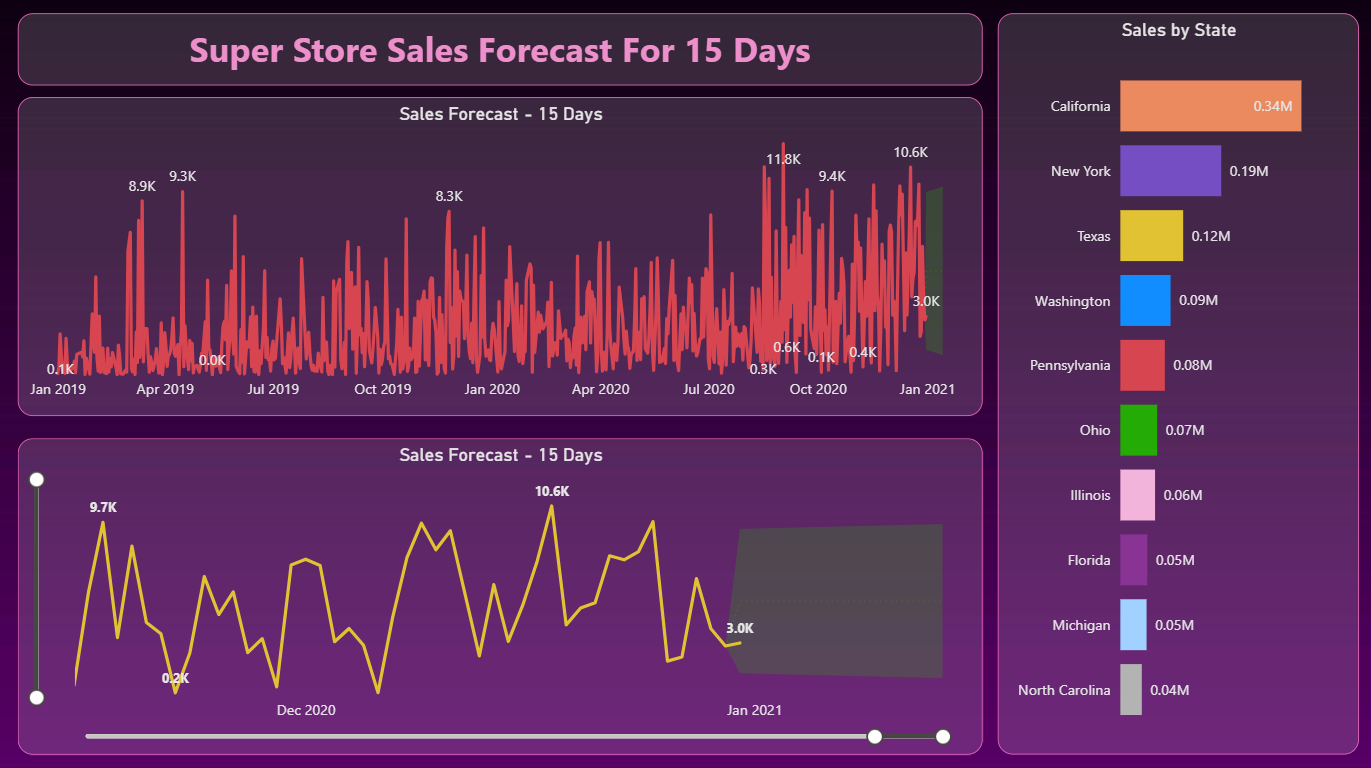

This screenshot's page, from the dashboard's own definition file:
{"tool":"powerbi","page":{"name":"Sales forecasting overview dashboard","canvas":[1280,720],"ordinal":1},"visuals":[{"type":"lineChart","title":"Sales Forecast - 15 Days ","fields":{"Y":["Sum(Sheet1.Sales)"],"Category":["Sheet1.Order Date"]},"box":[17.4,93,897.7,296.5],"z":0},{"type":"lineChart","title":"Sales Forecast - 15 Days ","fields":{"Y":["Sum(Sheet1.Sales)"],"Category":["Sheet1.Order Date"]},"box":[17.4,410.5,897.7,294.2],"z":1000},{"type":"clusteredBarChart","title":"Sales by State","fields":{"Y":["Sum(Sheet1.Sales)"],"Category":["Sheet1.State"]},"box":[929.1,15.1,336,689.5],"z":2000},{"type":"textbox","box":[17.4,15.1,897.7,67.4],"z":3000}]}

Visuals, with their boxes in screenshot pixels (x1, y1, x2, y2), scaled from the page's 1280x720 canvas onto the 1371x768 screenshot:
"Sales Forecast - 15 Days " lineChart: {"left": 19, "top": 99, "right": 980, "bottom": 415}
"Sales Forecast - 15 Days " lineChart: {"left": 19, "top": 438, "right": 980, "bottom": 752}
"Sales by State" clusteredBarChart: {"left": 995, "top": 16, "right": 1355, "bottom": 752}
textbox: {"left": 19, "top": 16, "right": 980, "bottom": 88}
